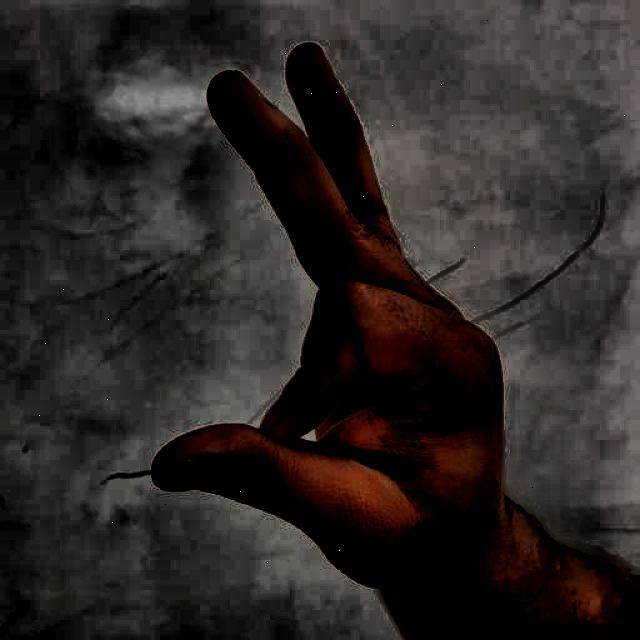Uo: (85, 31, 593, 627)
